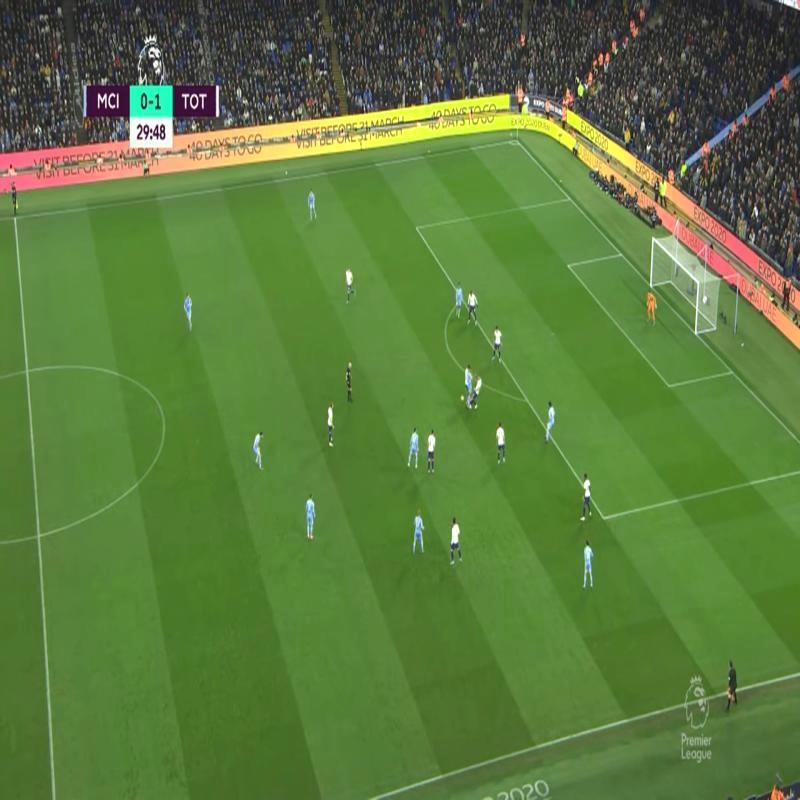1: (508, 133, 525, 149)
10: (454, 290, 470, 308)
11: (519, 393, 535, 410)
12: (596, 512, 610, 526)
13: (9, 211, 25, 228)
14: (19, 360, 38, 380)
15: (29, 526, 49, 546)
2: (564, 193, 580, 208)
3: (614, 247, 628, 262)
4: (724, 364, 740, 380)
7: (561, 258, 575, 272)
8: (662, 378, 678, 396)
9: (411, 219, 425, 233)
c: (158, 412, 172, 428)
